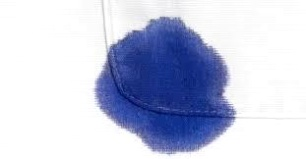ink: (110, 29, 225, 136)
